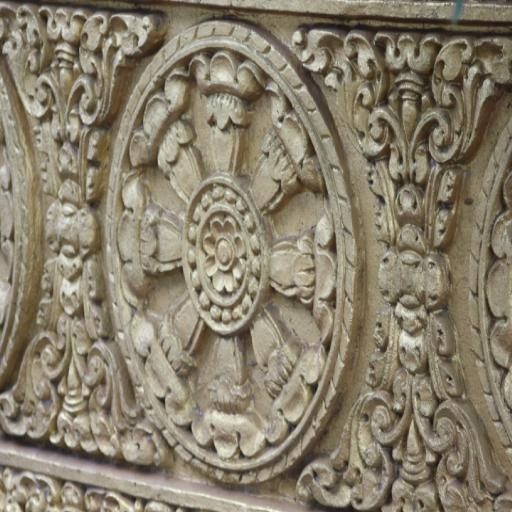hoa: (204, 217, 247, 295)
la: (306, 22, 506, 282), (313, 281, 512, 512), (2, 233, 159, 473), (0, 14, 165, 234), (134, 300, 210, 421), (251, 310, 321, 439), (134, 66, 198, 200), (118, 164, 184, 292), (201, 329, 262, 459), (253, 89, 320, 207), (196, 53, 258, 180), (270, 217, 338, 308)
